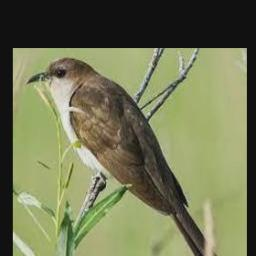Cuckoo: (27, 57, 238, 256)
